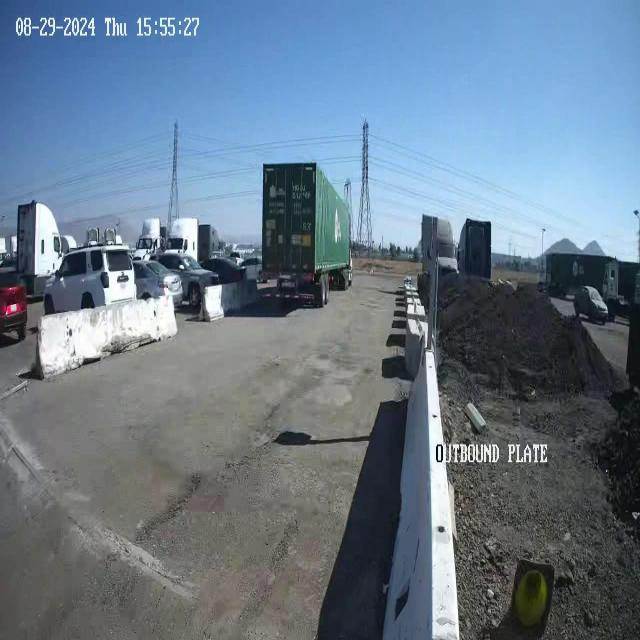TRUCK_IN: (261, 161, 353, 307)
